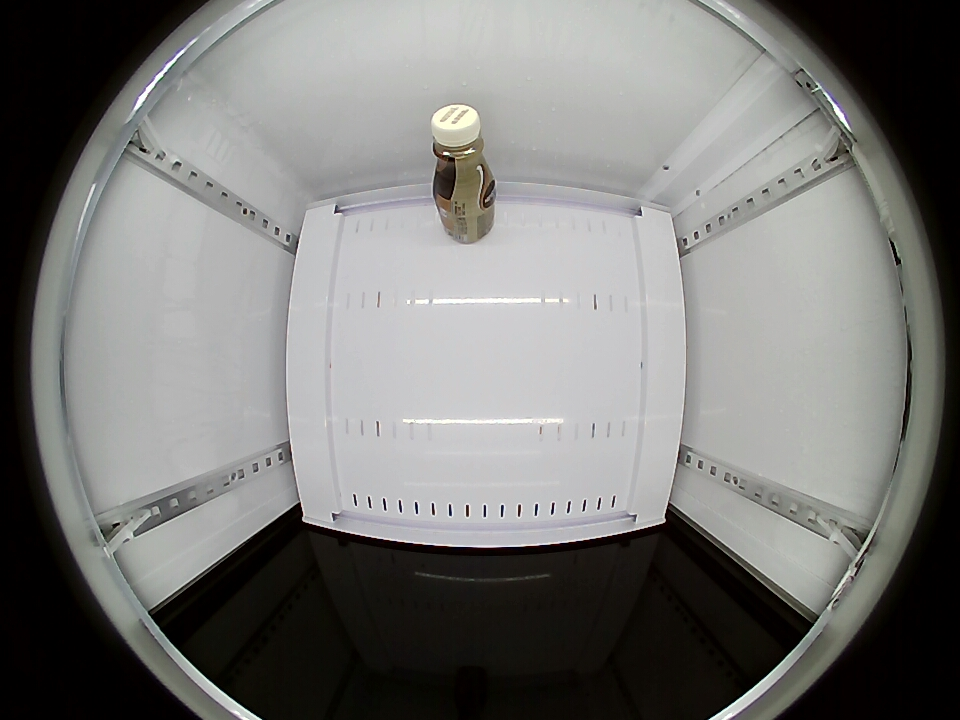kafei: (431, 104, 497, 203)
